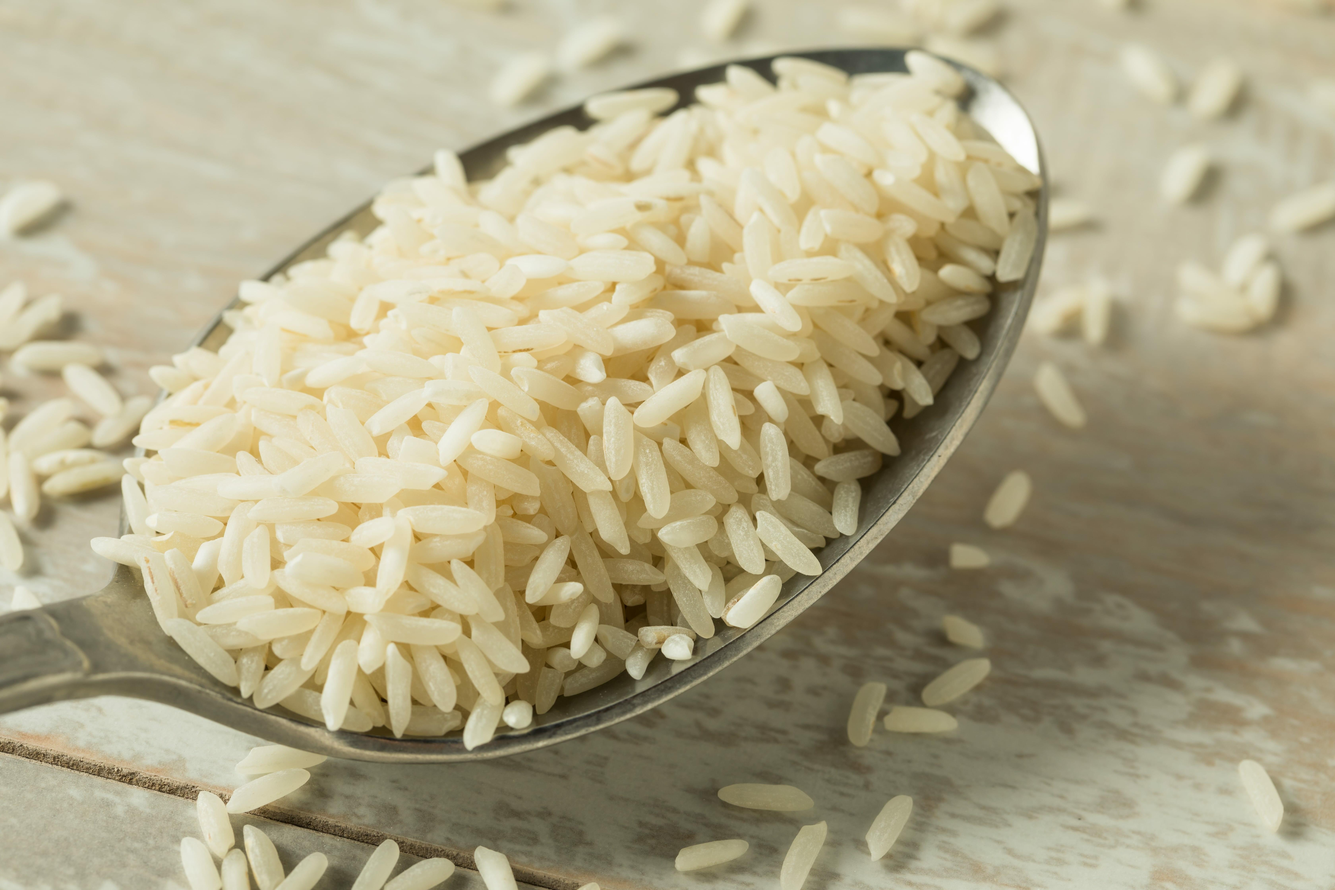WhiteRice: (132, 52, 1039, 749)
